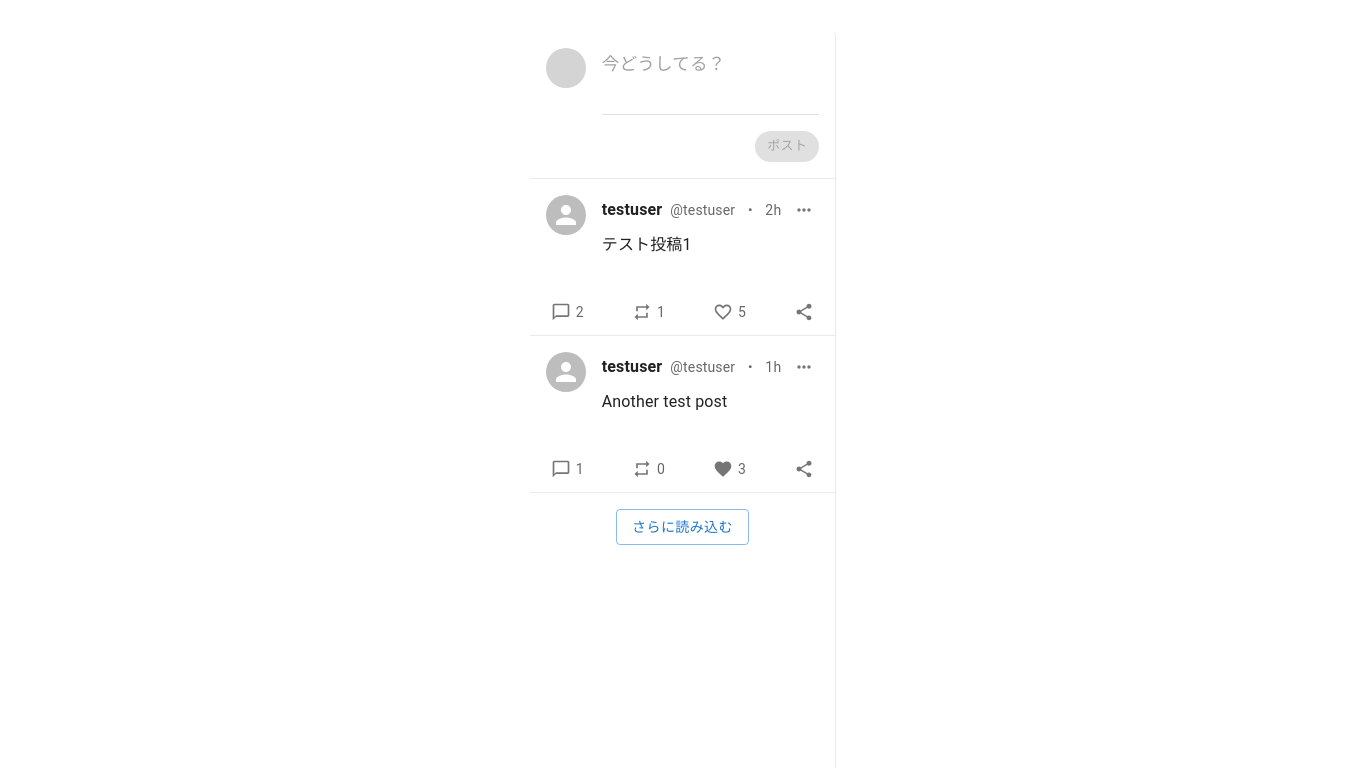
Test: フィード › 削除ボタンをクリックすると削除確認ダイアログが開く
The image size is (1366, 768).
Click the button without text next to "2h" at x=804, y=210, box [789,195,819,225]
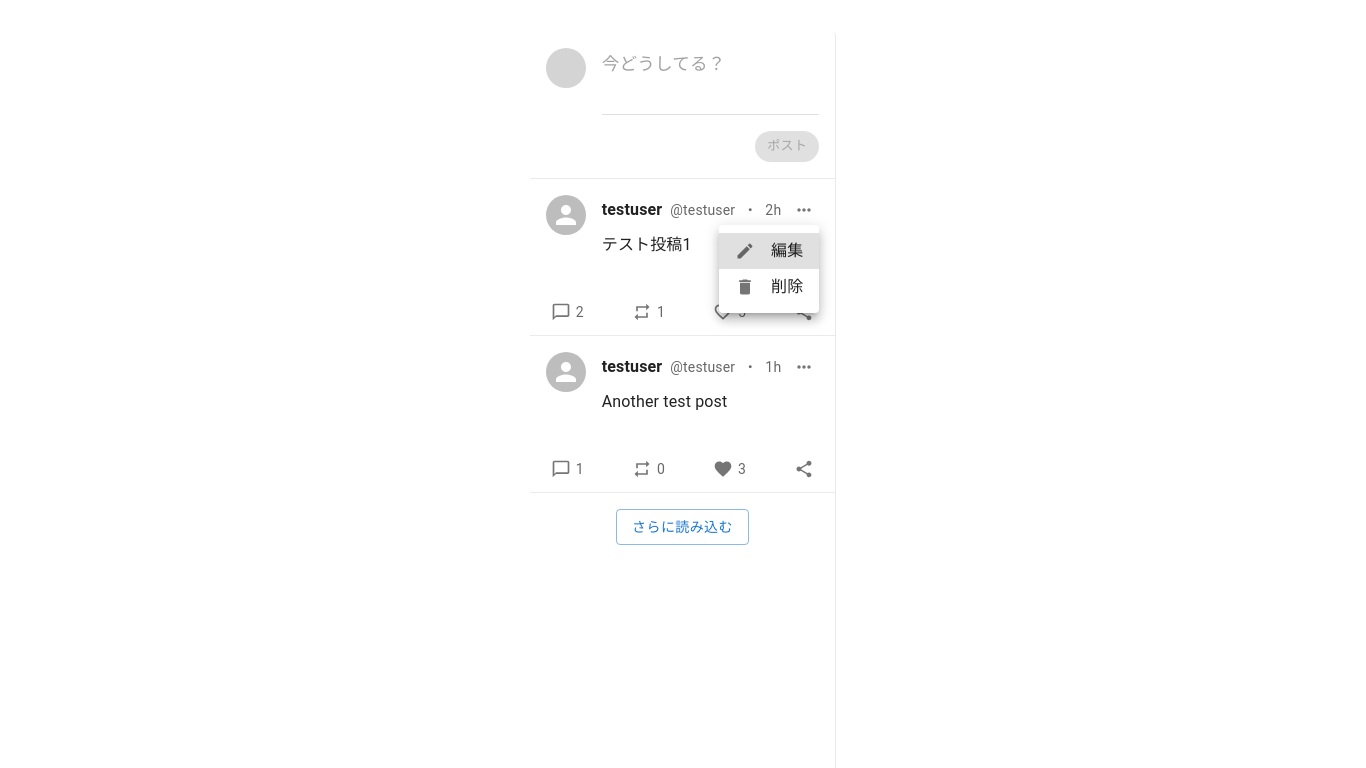
Click the menu item "削除" at x=769, y=287, box [735,277,803,297]
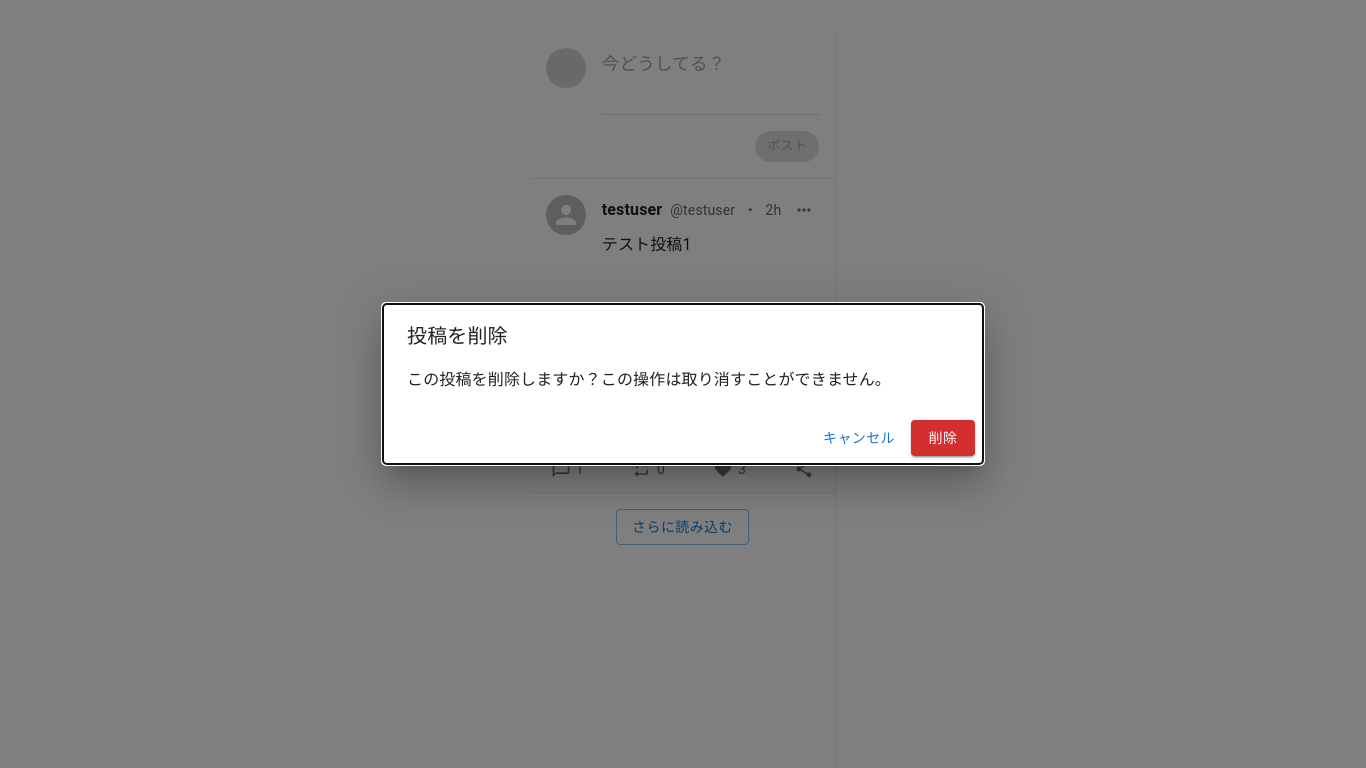
Now the heading "投稿を削除" is shown, box [407,324,508,348]
Now the text "この投稿を削除しますか？この操作は取り消すことができません。" is shown, box [407,368,959,392]
